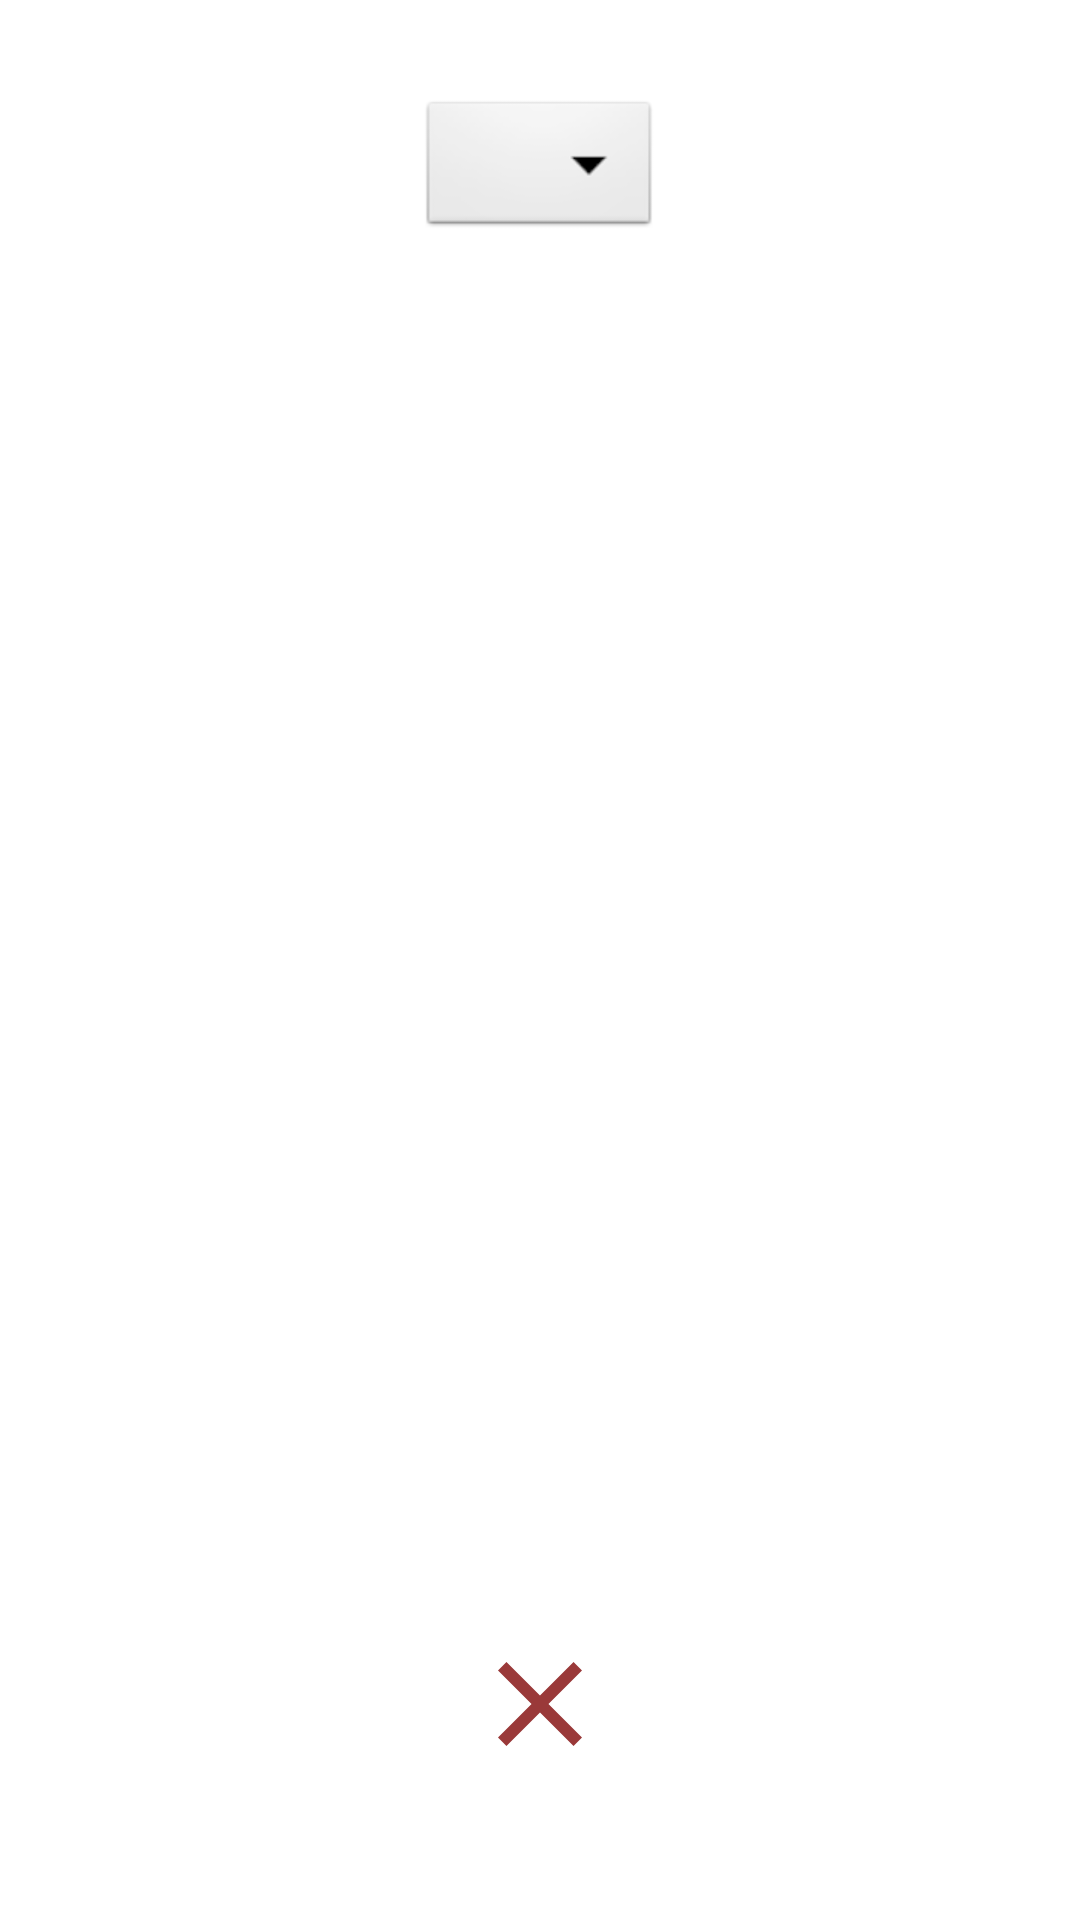

Screen size 1080px x 1920px. Icon name, then its box in pixels as {"x1": x1, "y1": y1, "x2": x2, "y2": y2}:
close: {"x1": 498, "y1": 1662, "x2": 582, "y2": 1746}
